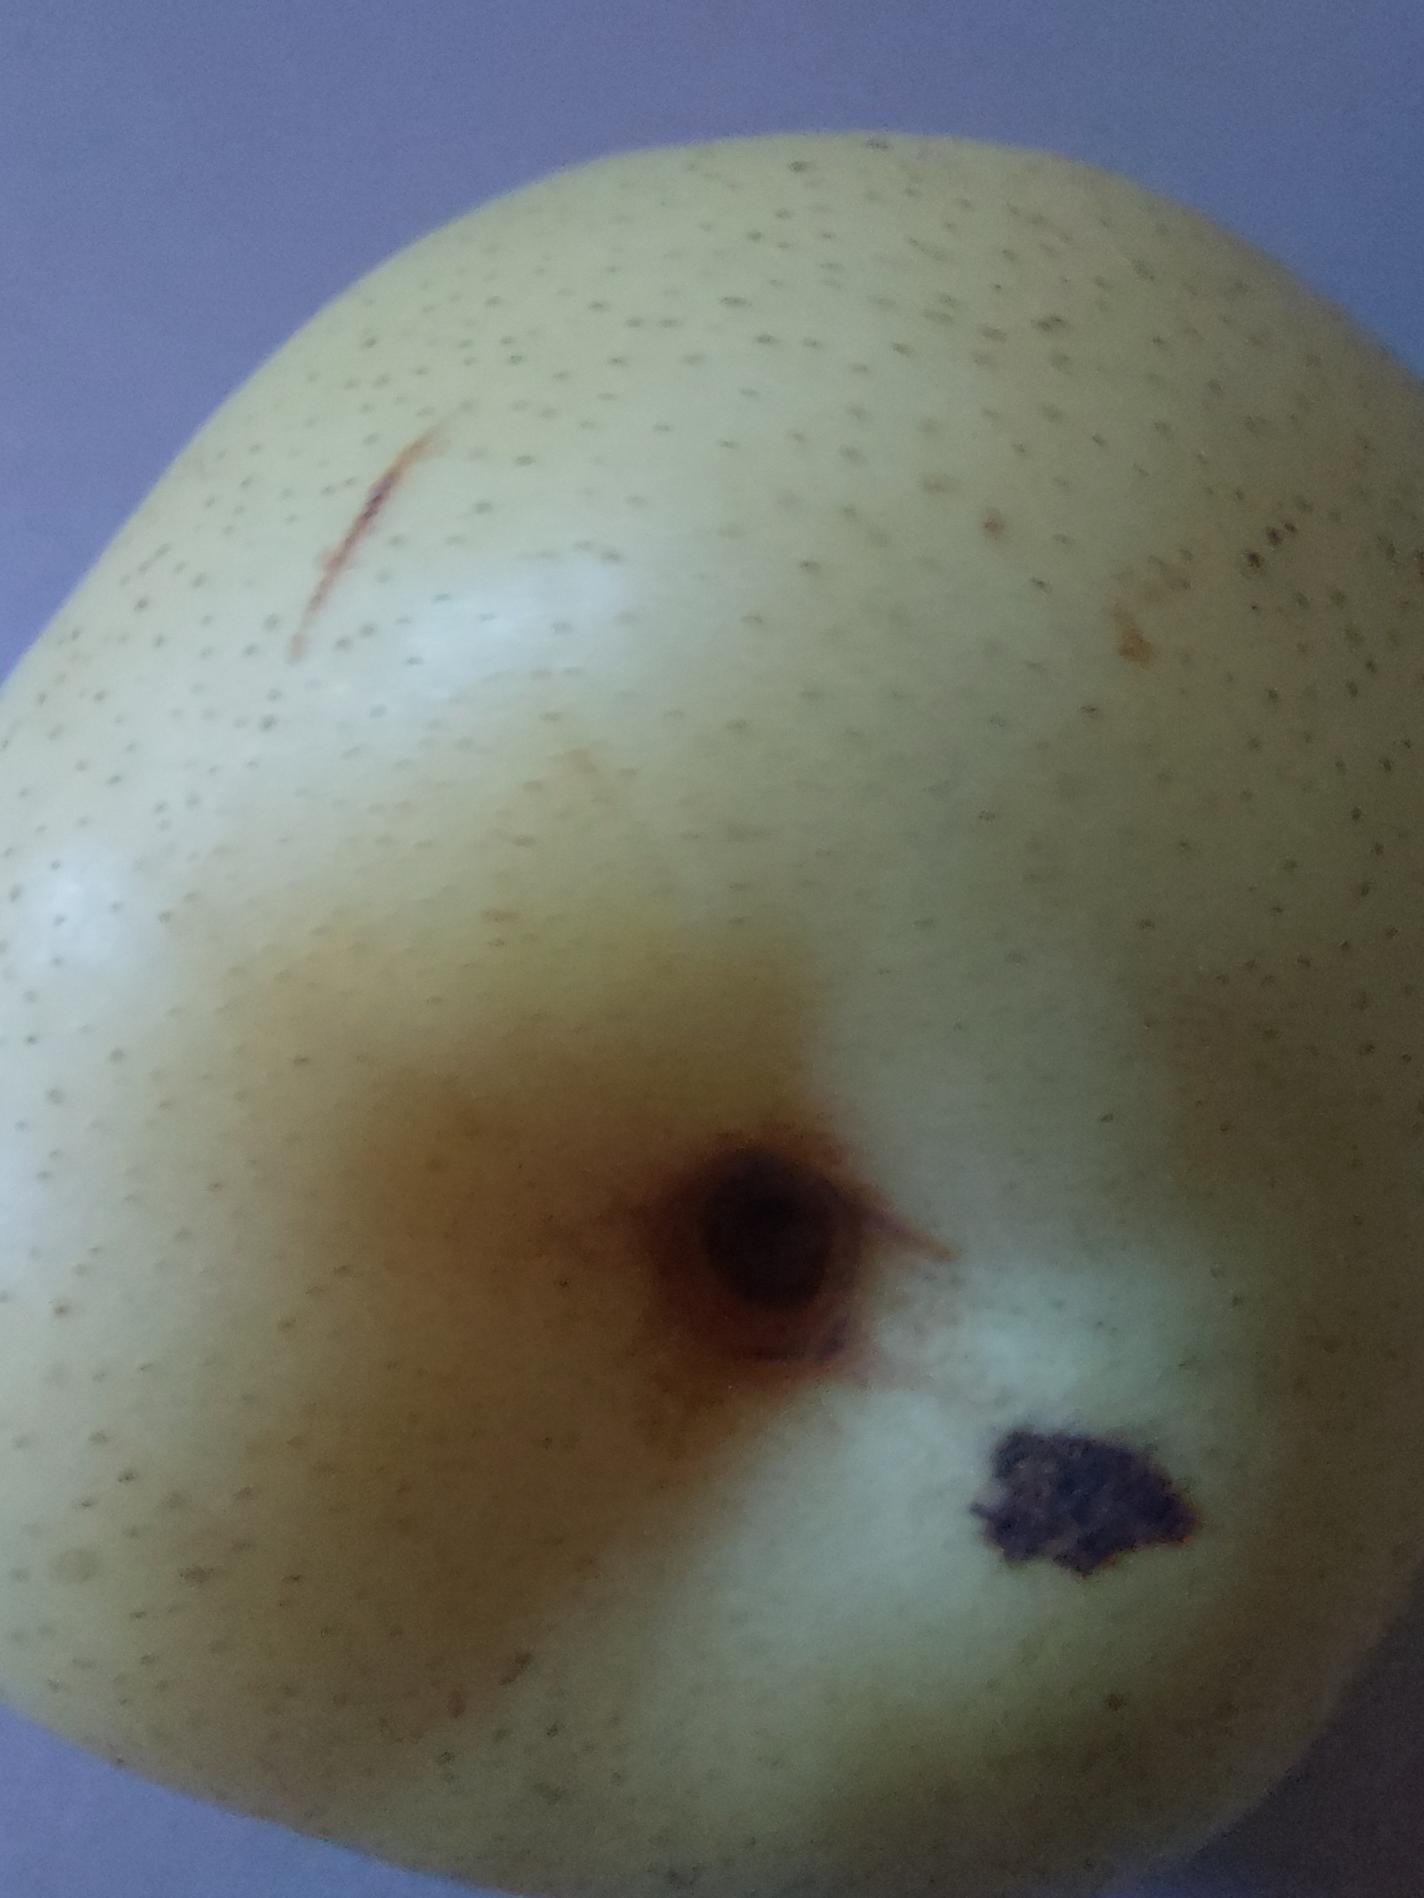Good Pear: (0, 109, 1424, 1898)
